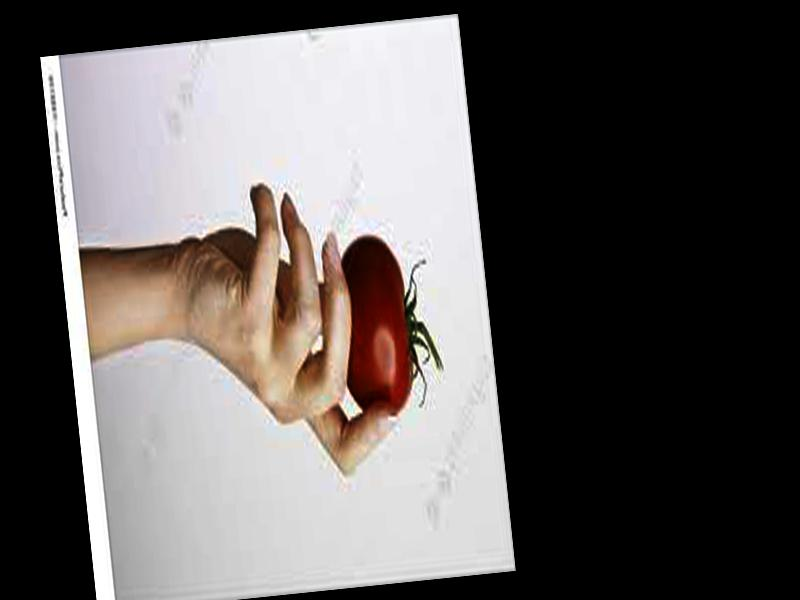Tomato: (333, 232, 445, 417)
